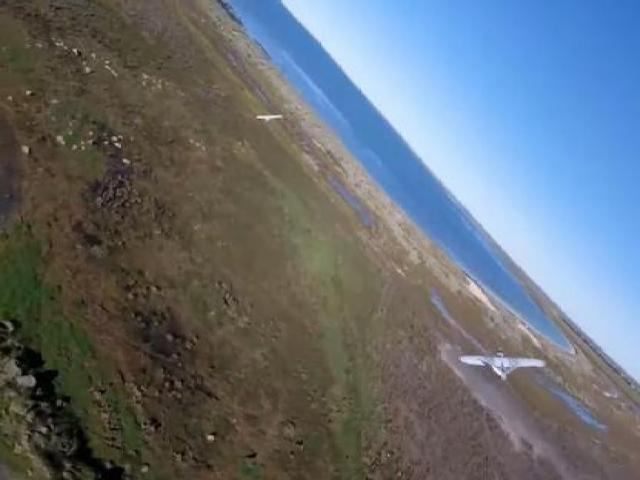uav: (456, 346, 546, 384), (253, 110, 284, 123)
